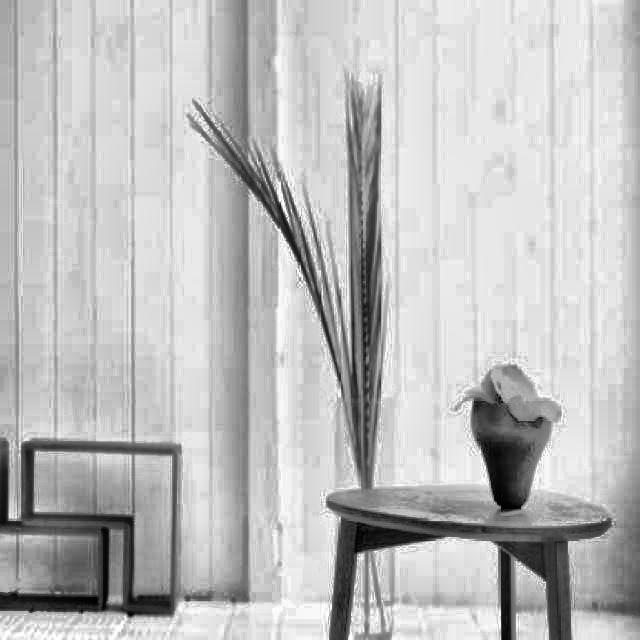plants: (477, 360, 548, 508)
